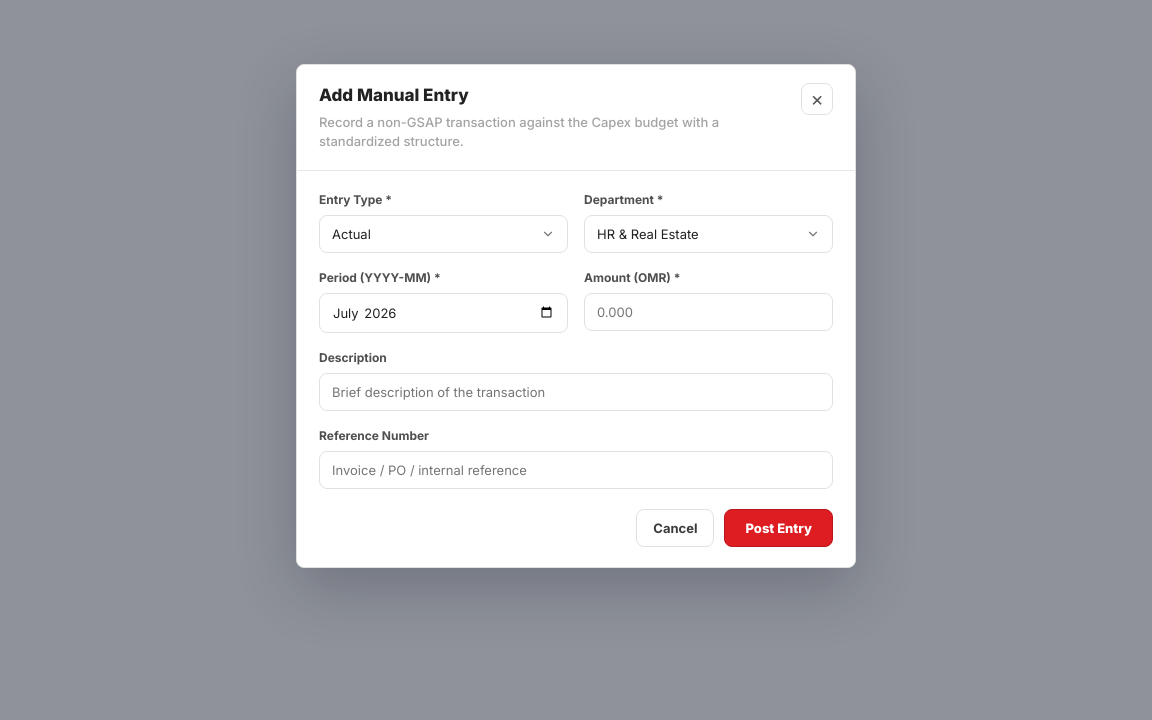
ManualEntryModal — rendering › renders all department options
Click the dropdown named "Department *": (708, 234) [584,214,833,252]
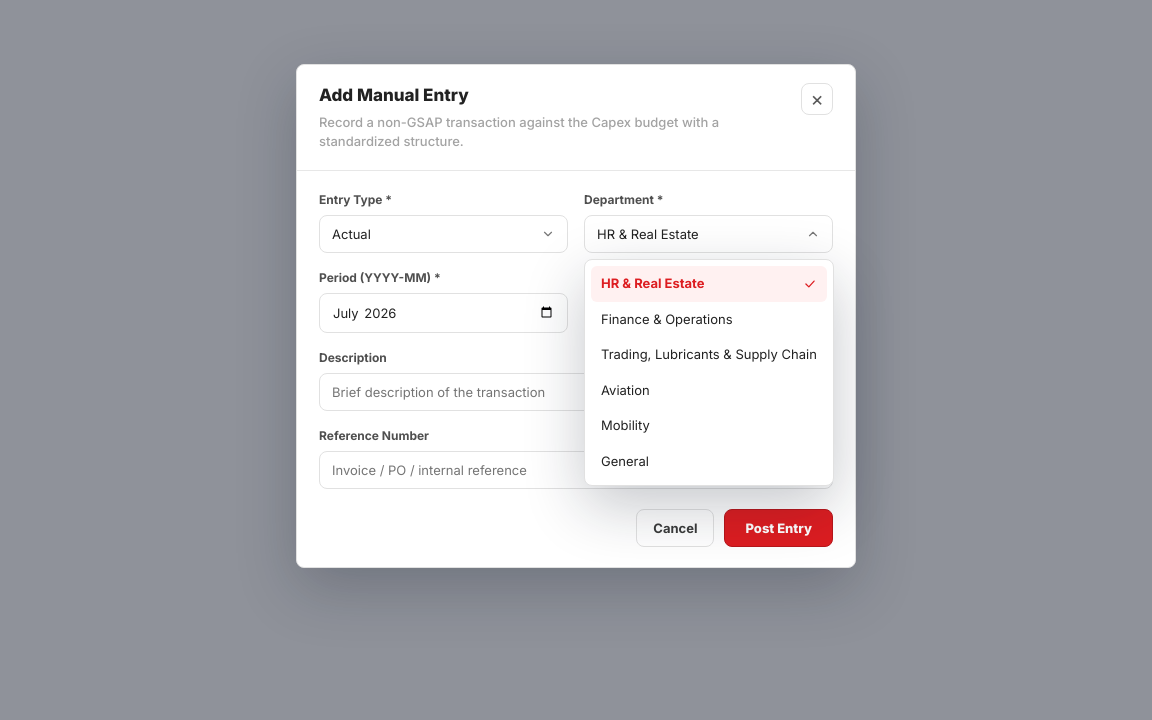
Check: the option "HR & Real Estate" is shown, box [591,266,827,302]
Check: the option "Aviation" is shown, box [601,382,650,398]
Check: the option "Mobility" is shown, box [601,417,650,433]
